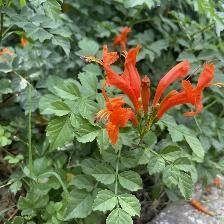honeysuckle: (93, 84, 140, 147)
